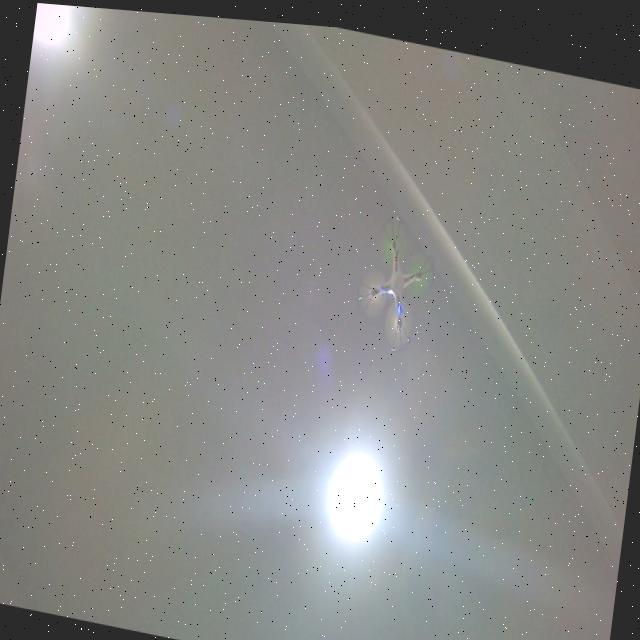drone: (348, 200, 442, 358)
